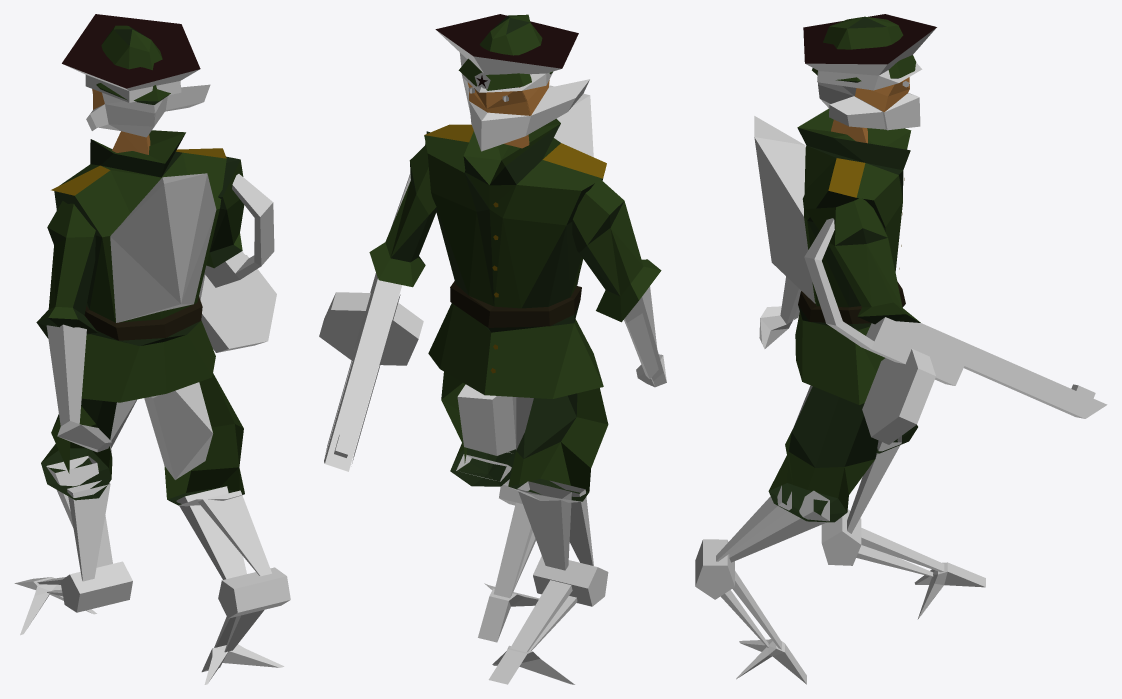
Rendered from enemy_cyborg_walk_000003.obj.
3 renders of one model, left to right at view 1: azimuth 30°, elevation 25°; view 2: azimuth 150°, elevation 25°; view 3: azimuth 270°, elevation 25°, orthographic. The views are drawn at different scales.
Parts seen in each view (by area): view 1: cyborg_body_Cube.001, cyborg_leg_r_Cube.016, cyborg_leg_l_Cube.014, cyborg_arm_r_Cube.008, officer_head_Cylinder.002, cyborg_arm_l_Cube.009, officer_leg_r_Cube.029, officer_arm_l_Cube.028, cyborg_head_Cube.012, officer_body_Cube.019, officer_leg_l_Cube.030; view 2: cyborg_body_Cube.001, cyborg_leg_l_Cube.014, cyborg_arm_r_Cube.008, cyborg_arm_l_Cube.009, officer_head_Cylinder.002, cyborg_leg_r_Cube.016, cyborg_head_Cube.012, officer_leg_r_Cube.029, officer_body_Cube.019, officer_arm_l_Cube.028, officer_leg_l_Cube.030; view 3: cyborg_body_Cube.001, cyborg_arm_r_Cube.008, cyborg_leg_r_Cube.016, cyborg_leg_l_Cube.014, officer_head_Cylinder.002, cyborg_head_Cube.012, officer_arm_l_Cube.028, officer_body_Cube.019.
Part boxes in pixels (x1=…): cyborg_body_Cube.001: x1=54, y1=130, x2=226, y2=402; cyborg_leg_r_Cube.016: x1=164, y1=373, x2=290, y2=684; cyborg_leg_l_Cube.014: x1=14, y1=398, x2=132, y2=635; cyborg_arm_r_Cube.008: x1=199, y1=156, x2=276, y2=352; officer_head_Cylinder.002: x1=62, y1=14, x2=210, y2=154; cyborg_arm_l_Cube.009: x1=36, y1=201, x2=111, y2=452; officer_leg_r_Cube.029: x1=144, y1=382, x2=242, y2=506; officer_arm_l_Cube.028: x1=46, y1=324, x2=86, y2=435; cyborg_head_Cube.012: x1=96, y1=25, x2=170, y2=154; officer_body_Cube.019: x1=51, y1=148, x2=226, y2=195; officer_leg_l_Cube.030: x1=110, y1=399, x2=137, y2=456; cyborg_body_Cube.001: x1=424, y1=85, x2=603, y2=398; cyborg_leg_l_Cube.014: x1=488, y1=388, x2=608, y2=684; cyborg_arm_r_Cube.008: x1=319, y1=131, x2=436, y2=471; cyborg_arm_l_Cube.009: x1=572, y1=180, x2=661, y2=387; officer_head_Cylinder.002: x1=435, y1=14, x2=589, y2=144; cyborg_leg_r_Cube.016: x1=441, y1=371, x2=539, y2=642; cyborg_head_Cube.012: x1=458, y1=14, x2=552, y2=151; officer_leg_r_Cube.029: x1=457, y1=384, x2=516, y2=455; officer_body_Cube.019: x1=424, y1=124, x2=606, y2=178; officer_arm_l_Cube.028: x1=624, y1=286, x2=666, y2=387; officer_leg_l_Cube.030: x1=509, y1=397, x2=581, y2=502; cyborg_body_Cube.001: x1=754, y1=108, x2=911, y2=404; cyborg_arm_r_Cube.008: x1=804, y1=198, x2=1107, y2=444; cyborg_leg_r_Cube.016: x1=695, y1=386, x2=878, y2=684; cyborg_leg_l_Cube.014: x1=821, y1=425, x2=985, y2=619; officer_head_Cylinder.002: x1=803, y1=14, x2=936, y2=130; cyborg_head_Cube.012: x1=812, y1=16, x2=920, y2=143; officer_arm_l_Cube.028: x1=760, y1=276, x2=800, y2=330; officer_body_Cube.019: x1=828, y1=158, x2=865, y2=197.
Size of the model in its own units: 9.31 by 20.32 by 11.88.
